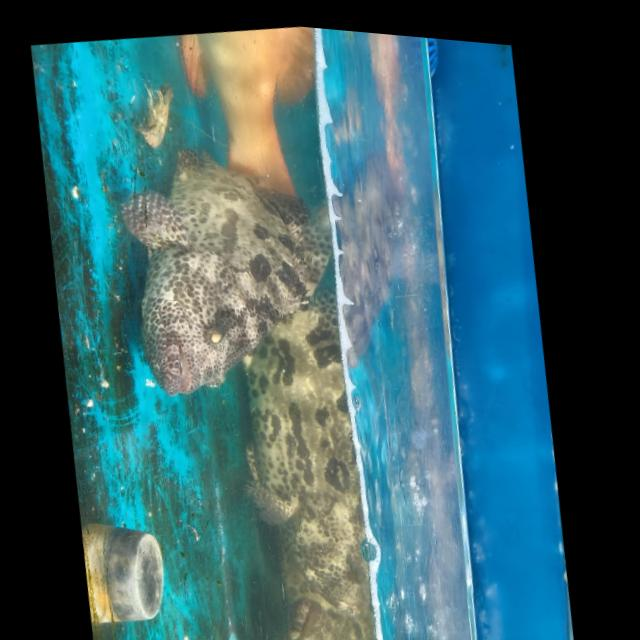Groupers: (99, 117, 362, 419)
